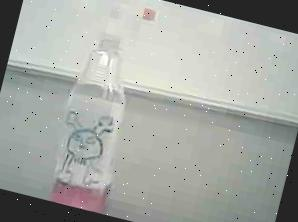hazard: (37, 0, 163, 216)
